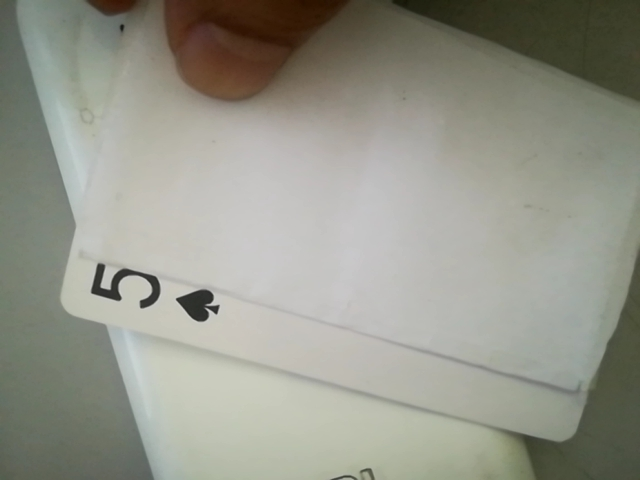ht 5: (75, 260, 236, 338)
